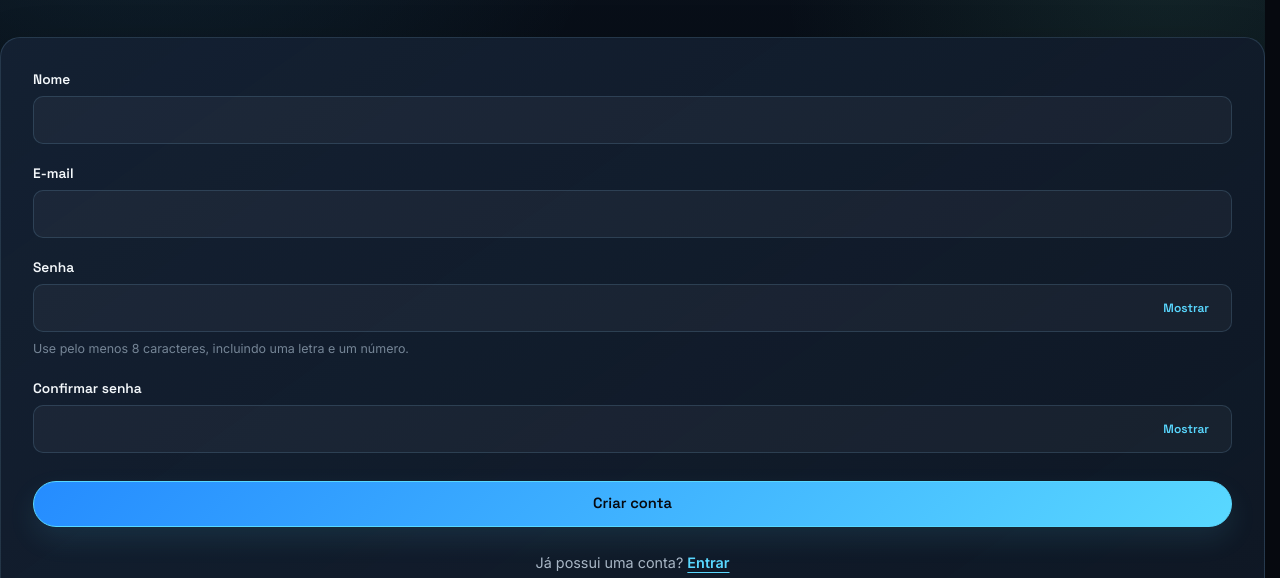
Test: cadastro, login e área do cliente › cria a conta, inicia a sessão e abre a área do cliente
This screenshot has width=1280, height=578.
In the field labelled "Nome": (632, 120) [33, 96, 1232, 144], type "Felipe Jordão"
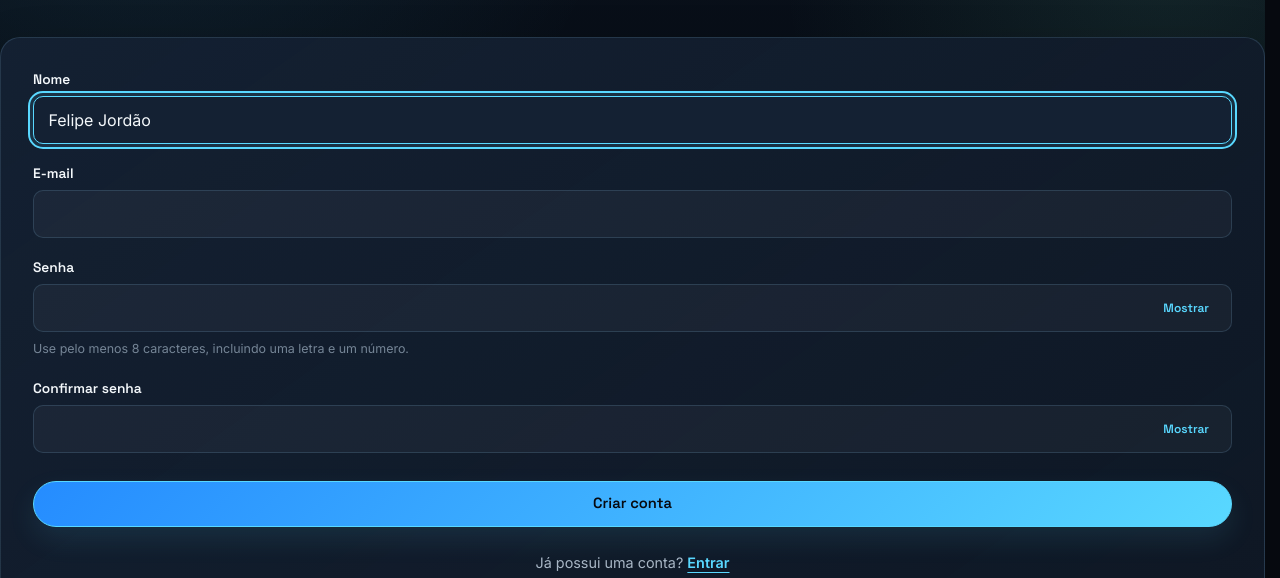
In the field labelled "E-mail": (632, 214) [33, 190, 1232, 238], type "FELIPE@EXEMPLO.COM"
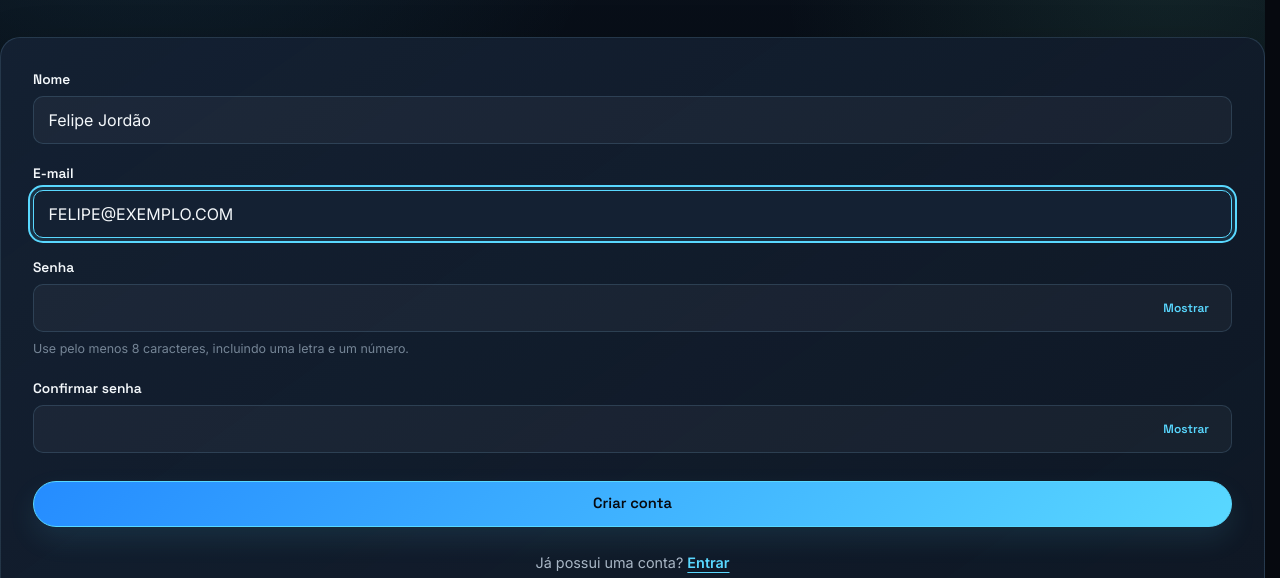
In the password field labelled "Senha": (632, 308) [33, 284, 1232, 332], type "eden2026"
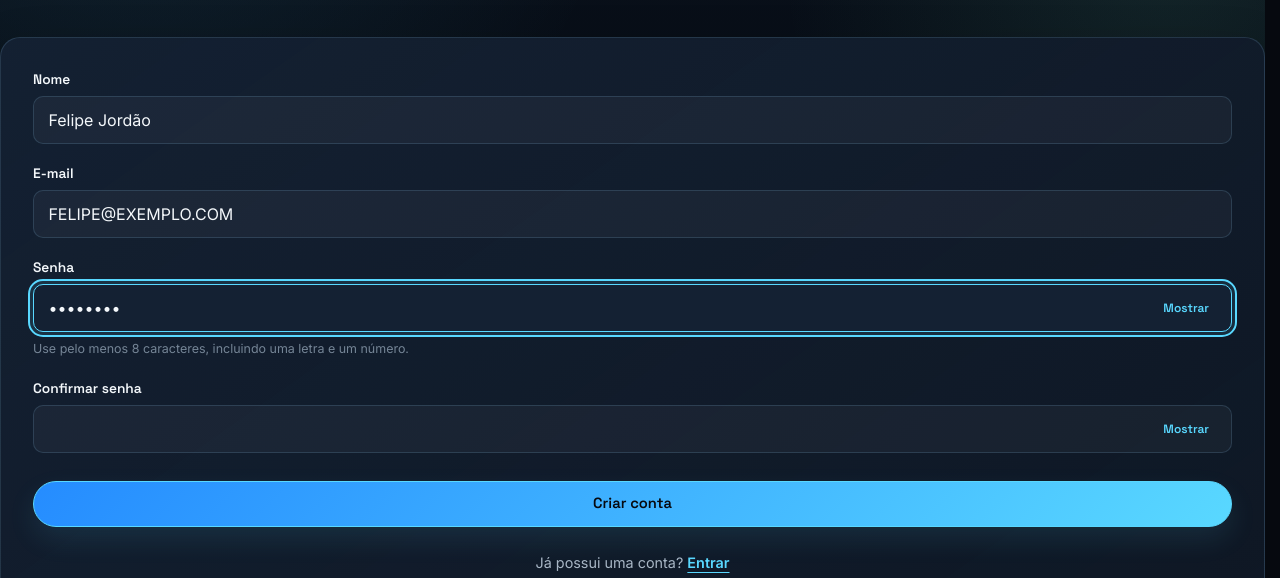
In the password field labelled "Confirmar senha": (632, 429) [33, 405, 1232, 453], type "eden2026"
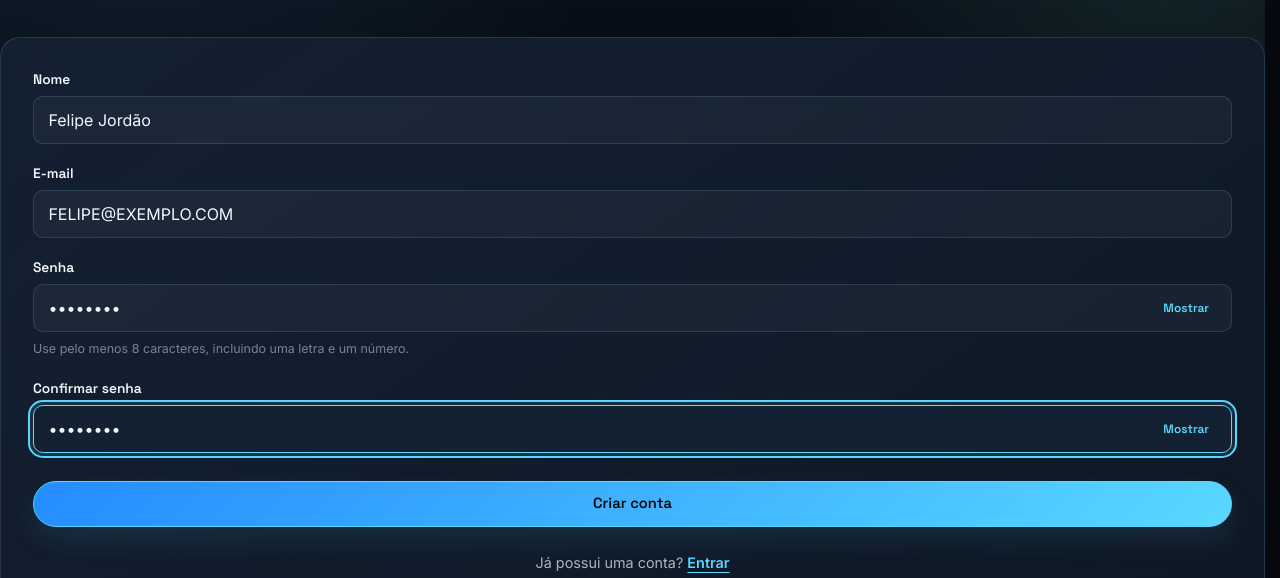
Click the button "Criar conta": click(632, 504) [33, 481, 1232, 527]
(page scrolled)
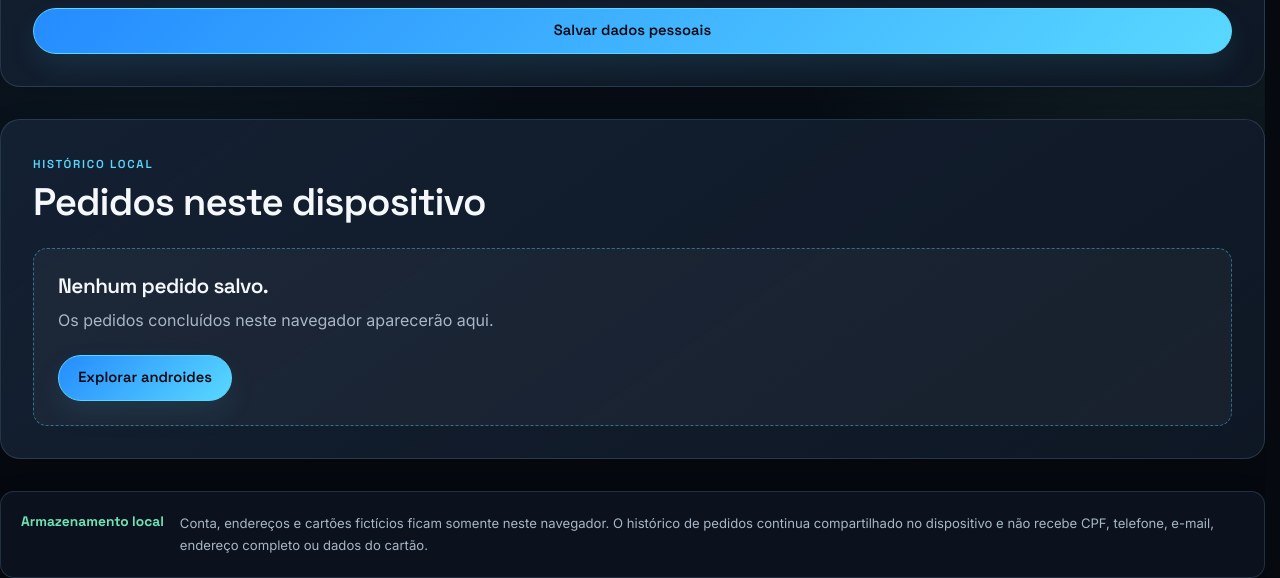
Expected: the heading "Nenhum pedido salvo." is shown, [58, 273, 268, 299]
